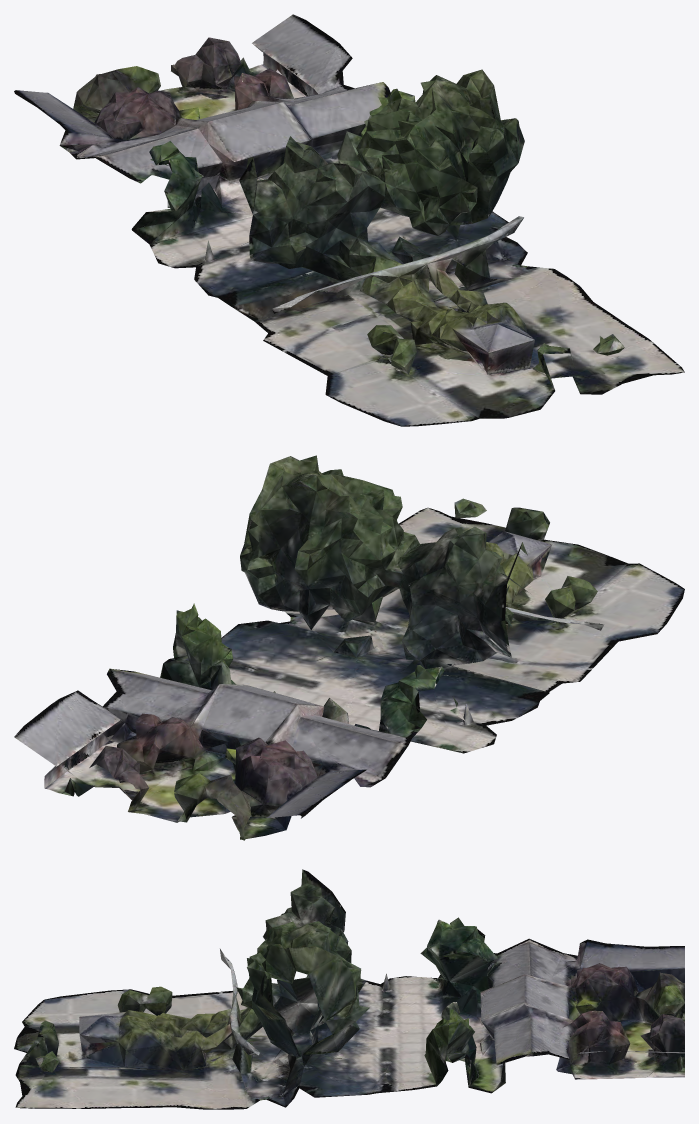
The picture shows the model from 3 angles, top to bottom: view 1: azimuth 30°, elevation 25°; view 2: azimuth 150°, elevation 25°; view 3: azimuth 270°, elevation 25°; orthographic projection. The views are drawn at different scales.
Bounding box in the file's own units: 49.5 × 28.23 × 112.
Materials: 1 (1 with a texture image).
